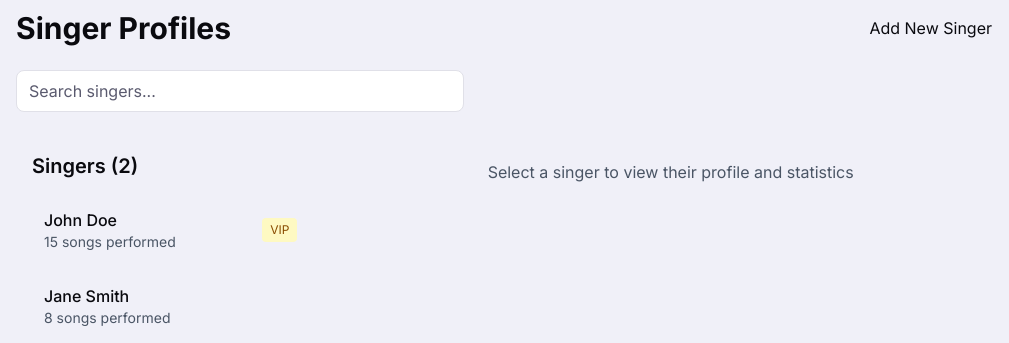
Test: SingerProfiles › filters profiles based on search query
The width and height of the screenshot is (1009, 343).
Expected: the text "John Doe" is shown, [44,210,117,230]
Expected: the text "Jane Smith" is shown, [44,286,129,306]
Search for "John"
Type "John" into the field with placeholder "Search singers...".
click(240, 91); type("John")  # box [16,70,464,112]
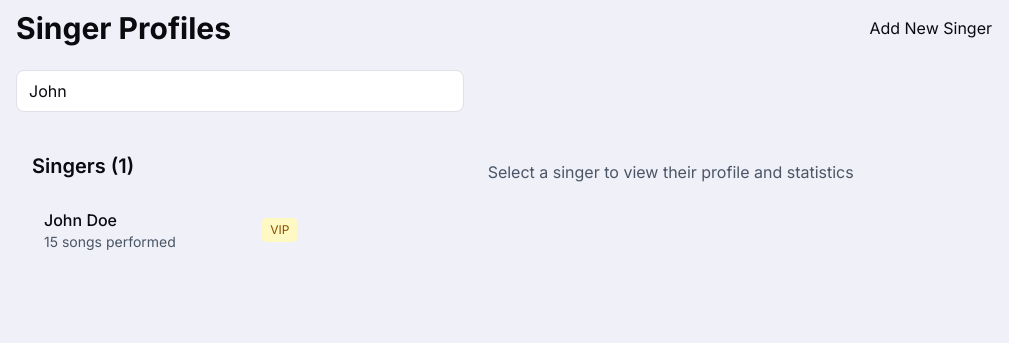
Expected: the text "John Doe" is shown, [44,210,117,230]
Expected: the text "Jane Smith" is gone
